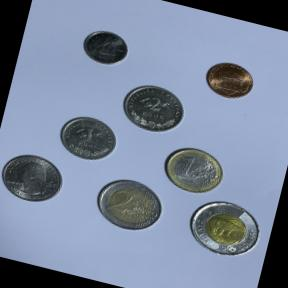coin: (182, 194, 270, 264), (87, 170, 169, 238), (113, 74, 195, 140), (154, 137, 230, 200), (0, 146, 69, 210), (200, 54, 262, 106), (76, 24, 134, 72)
